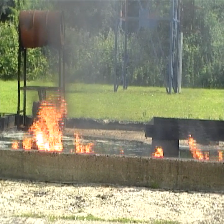fire_h: (12, 95, 68, 152), (186, 136, 208, 161)
fire_l: (75, 134, 94, 153), (155, 147, 163, 157), (218, 151, 224, 161)
